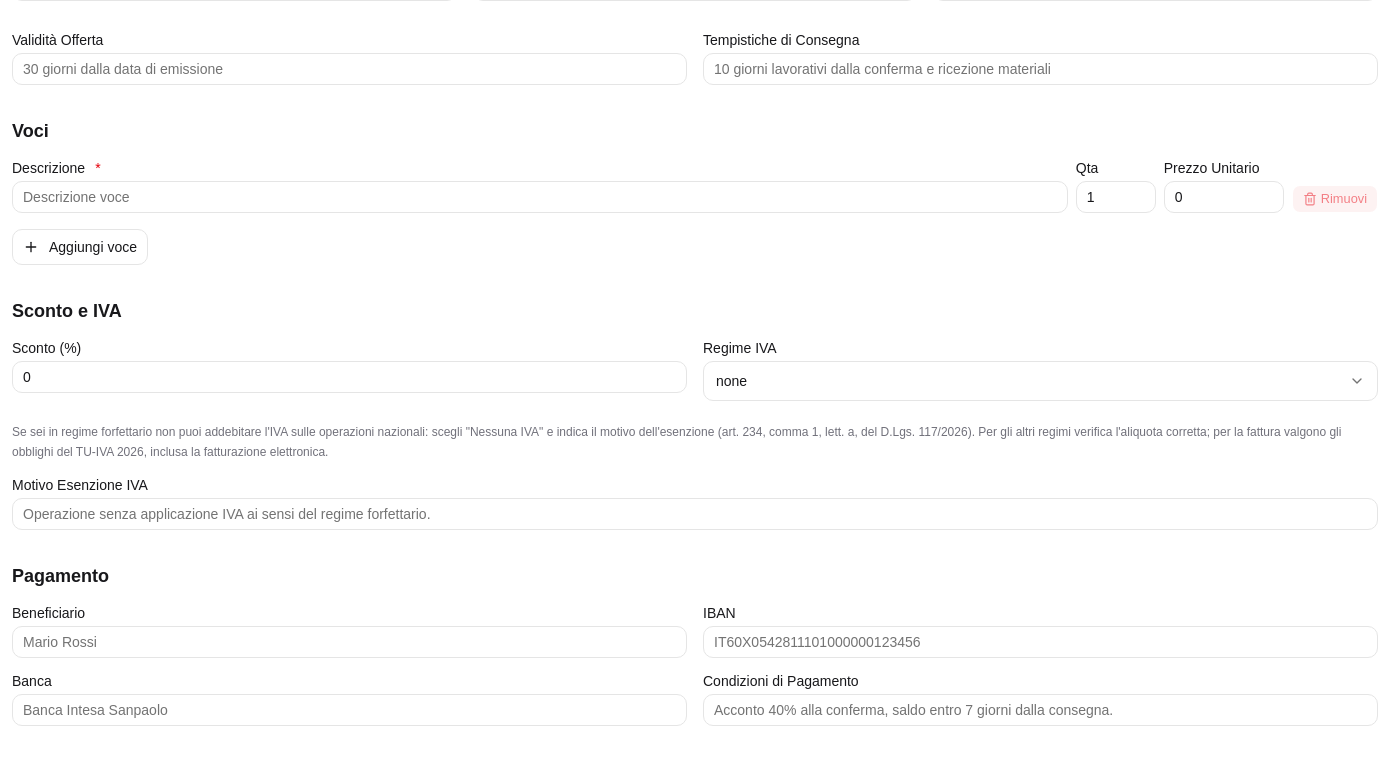
QuoteForm › hides VAT exemption reason when a VAT rate is selected
(page scrolled)
Expected: the field labelled "Motivo Esenzione IVA" is shown, [12, 498, 1378, 530]
Click the dropdown named "regime iva" at (732, 381), box [703, 361, 1378, 401]
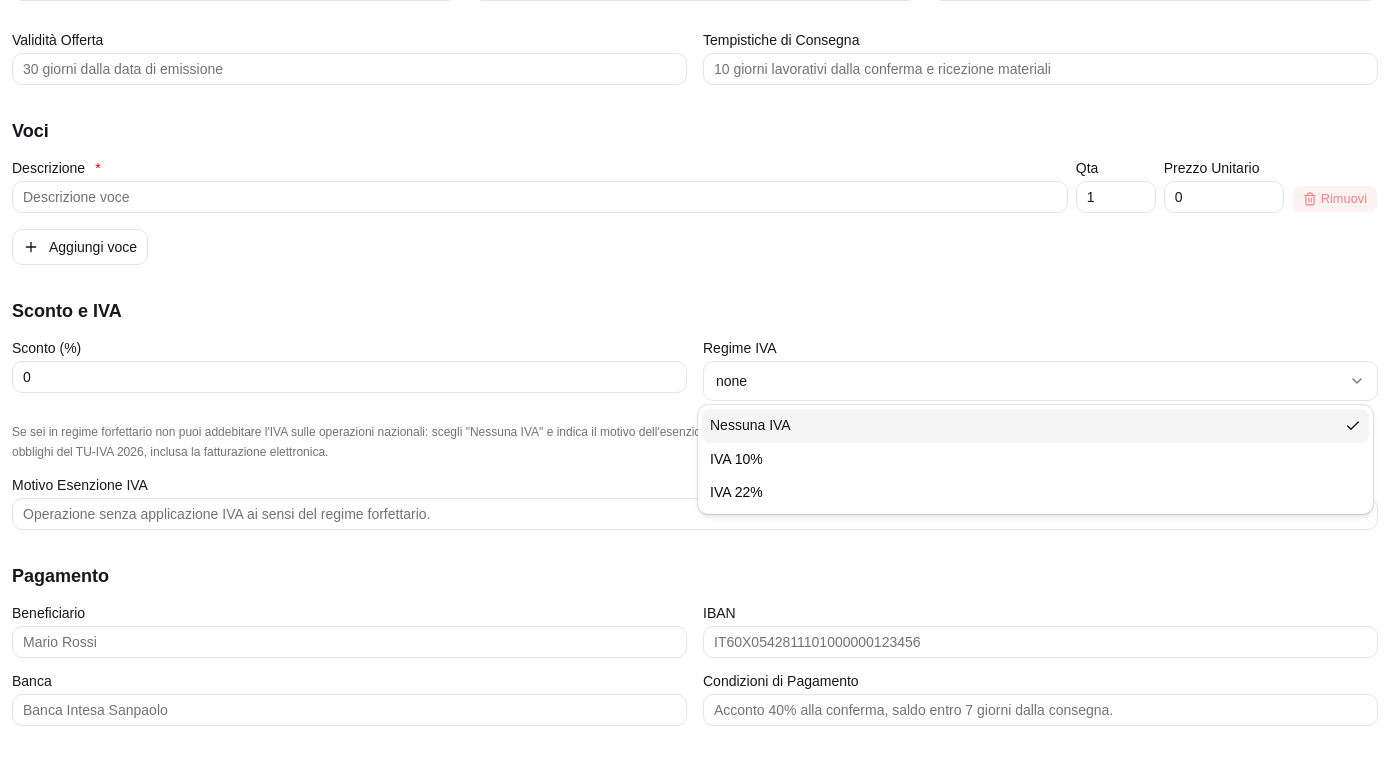
Click the option "IVA 10%" at (736, 458), box [710, 450, 763, 466]
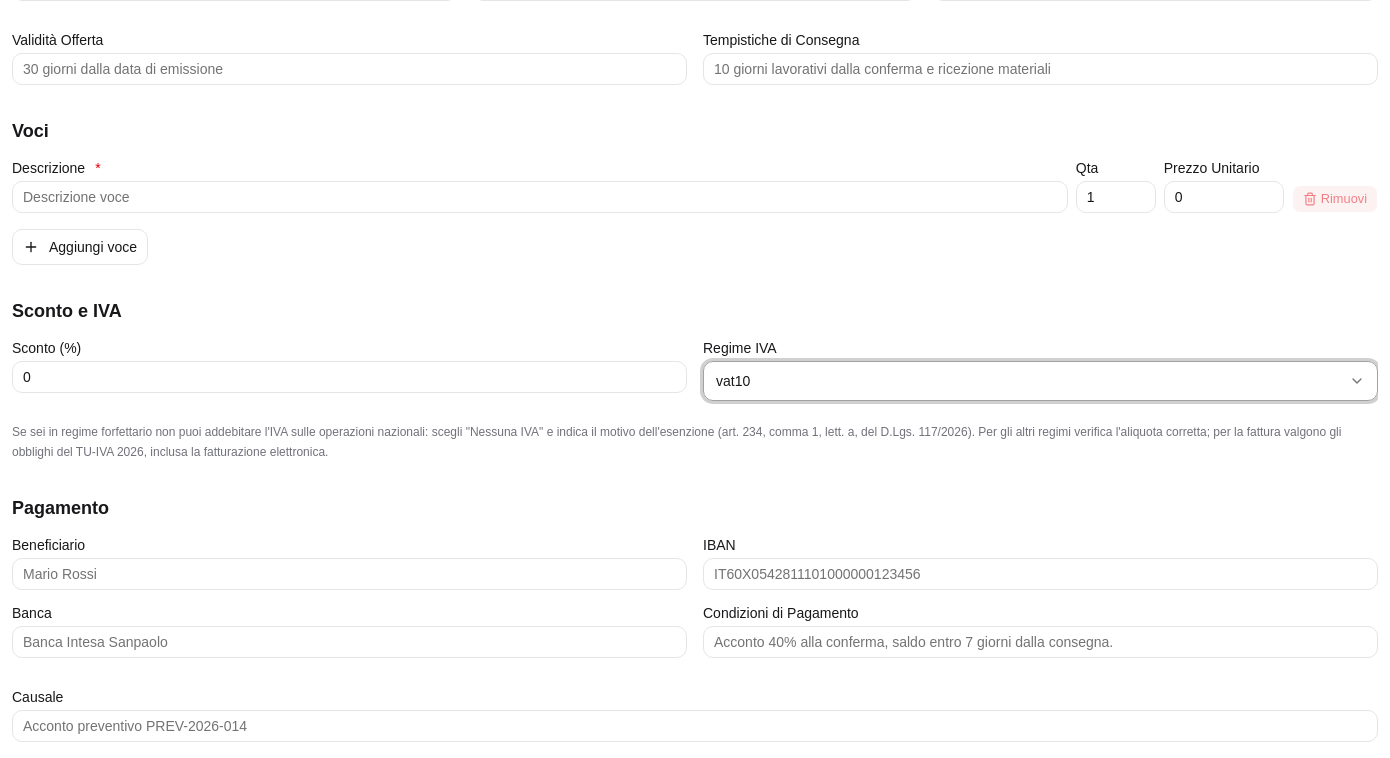
Expected: the label labelled "Motivo Esenzione" is gone
